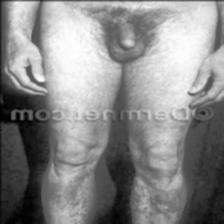Toxin: (46, 172, 88, 217), (134, 183, 180, 219)
